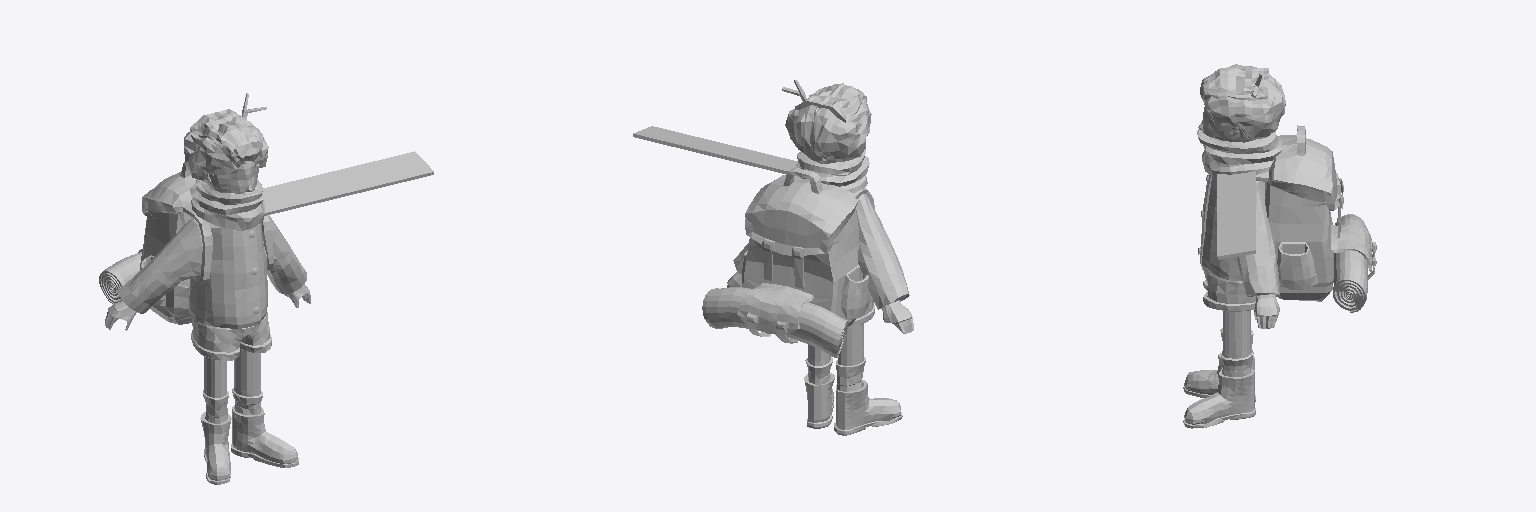
File: ArnionOBJ.obj
The picture shows the model from 3 angles: view 1: azimuth 30°, elevation 25°; view 2: azimuth 150°, elevation 25°; view 3: azimuth 270°, elevation 25°; orthographic projection.
Parts seen in each view (by area): view 1: Bod Rig_Grp Arnion_All, Bag_Model, Arnion_All Scarf_Animated Geo_Grp, Hair1, Bag_Model Blanket_Rollup; view 2: Bag_Model, Bod Rig_Grp Arnion_All, Hair1, Bag_Model Blanket_Rollup, Arnion_All Scarf_Animated Geo_Grp; view 3: Bod Rig_Grp Arnion_All, Bag_Model, Hair1, Arnion_All Scarf_Animated Geo_Grp, Bag_Model Blanket_Rollup.
Boxes of the visible parts, x1,y1,x2,y2 form: Bod Rig_Grp Arnion_All: [105, 161, 310, 484]; Bag_Model: [138, 162, 273, 324]; Arnion_All Scarf_Animated Geo_Grp: [262, 151, 433, 215]; Hair1: [184, 109, 268, 182]; Bag_Model Blanket_Rollup: [99, 252, 141, 303]; Bag_Model: [737, 168, 874, 343]; Bod Rig_Grp Arnion_All: [727, 149, 913, 435]; Hair1: [785, 83, 871, 163]; Bag_Model Blanket_Rollup: [702, 287, 847, 357]; Arnion_All Scarf_Animated Geo_Grp: [633, 126, 797, 174]; Bod Rig_Grp Arnion_All: [1183, 107, 1282, 428]; Bag_Model: [1256, 125, 1376, 301]; Hair1: [1200, 64, 1285, 139]; Arnion_All Scarf_Animated Geo_Grp: [1217, 171, 1255, 259]; Bag_Model Blanket_Rollup: [1333, 214, 1367, 312].
Bounding box in the file's own units: 71.27 × 80.48 × 40.52.